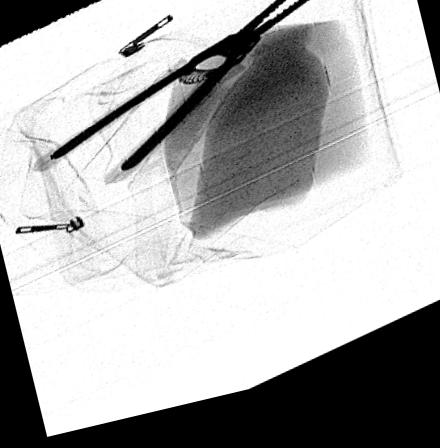Pliers: (41, 0, 330, 180)
